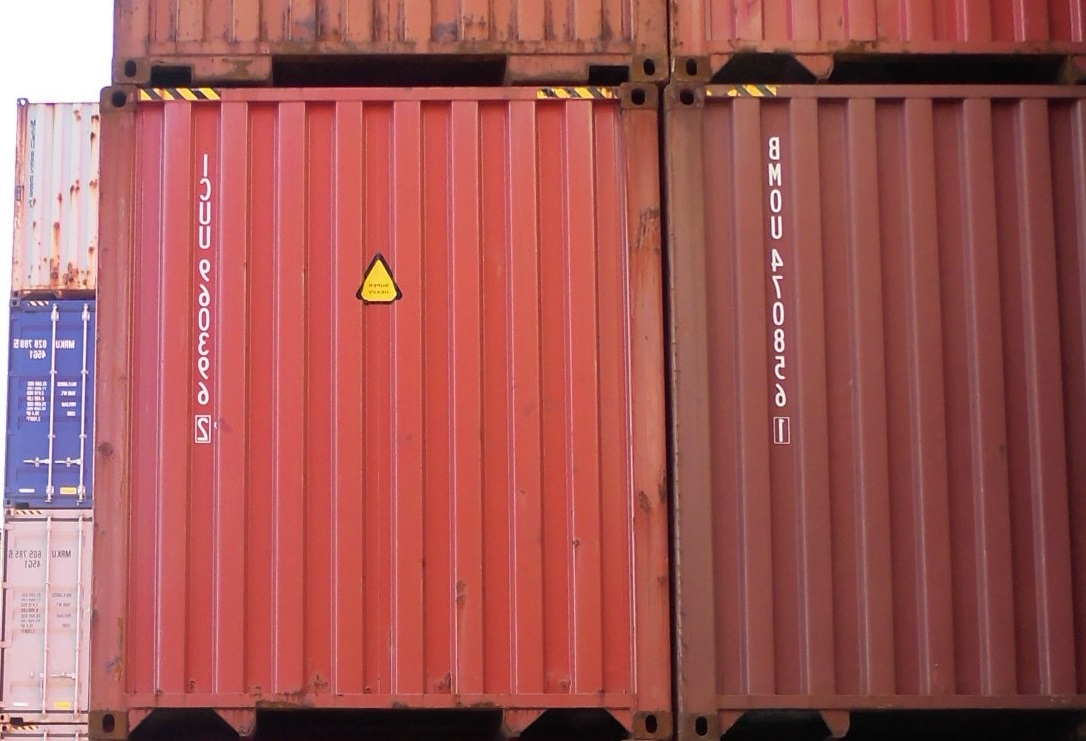container_door: (8, 299, 93, 505), (5, 507, 90, 713)
container_no_door: (99, 87, 674, 732), (678, 85, 1086, 734), (10, 100, 101, 291)
